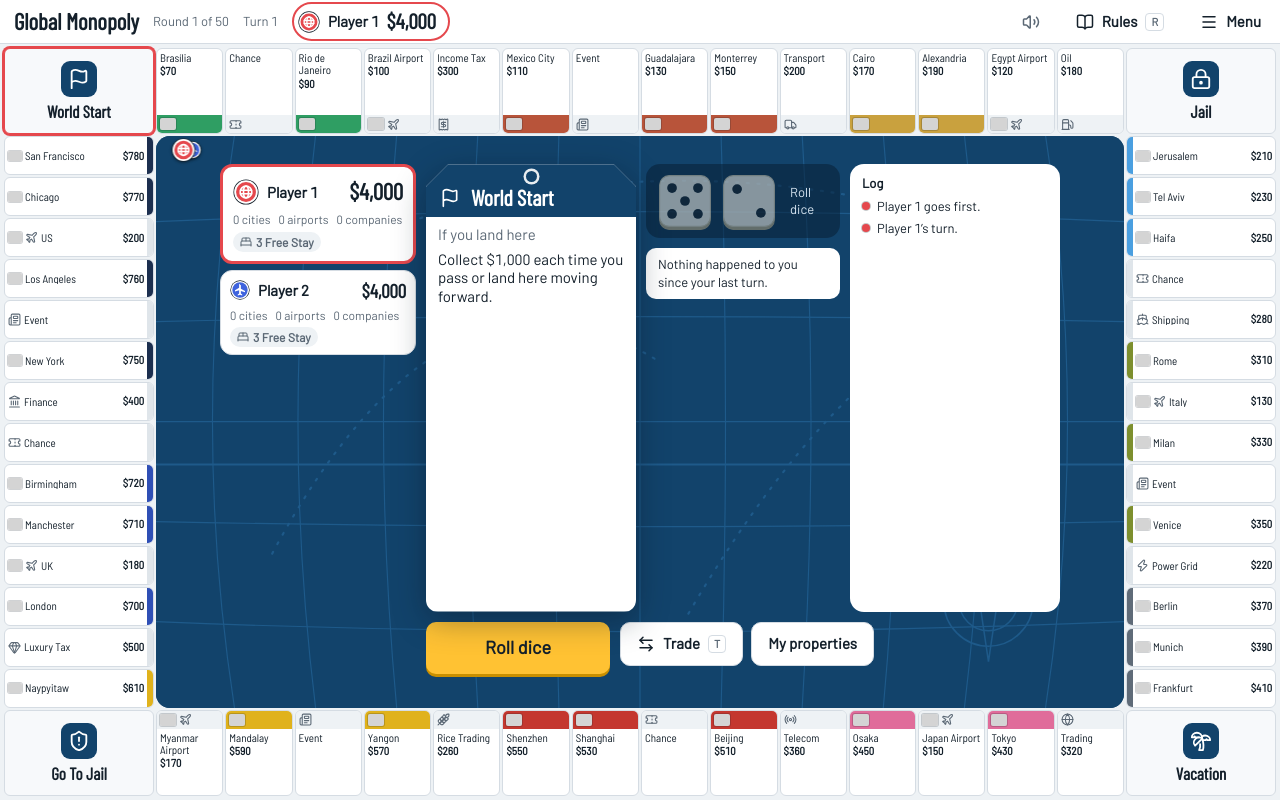
Scenario: rule guide › a switched-off topic says so in its first line, and tables come from the game data
Click the button "Rules R": (1120, 22) [1065,2,1175,42]
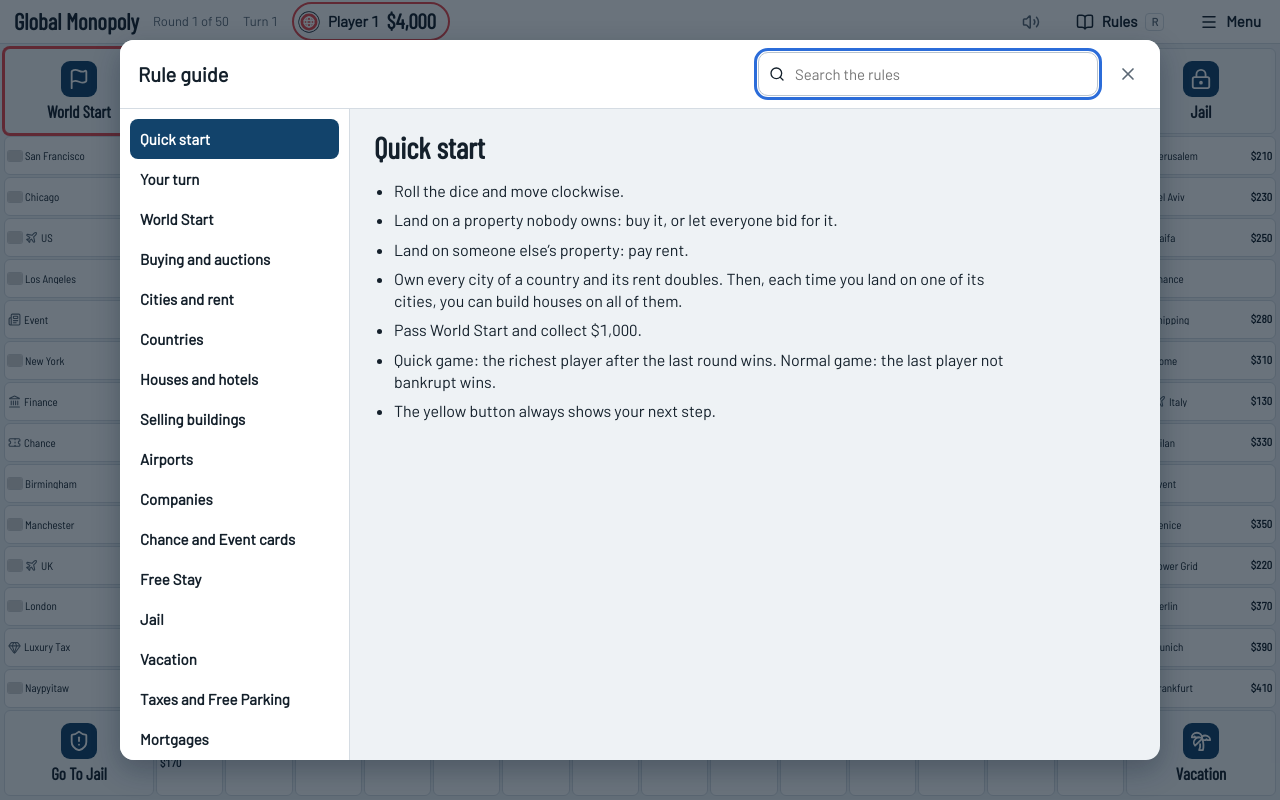
Click the button "Vacation": (234, 659) [130,639,339,679]
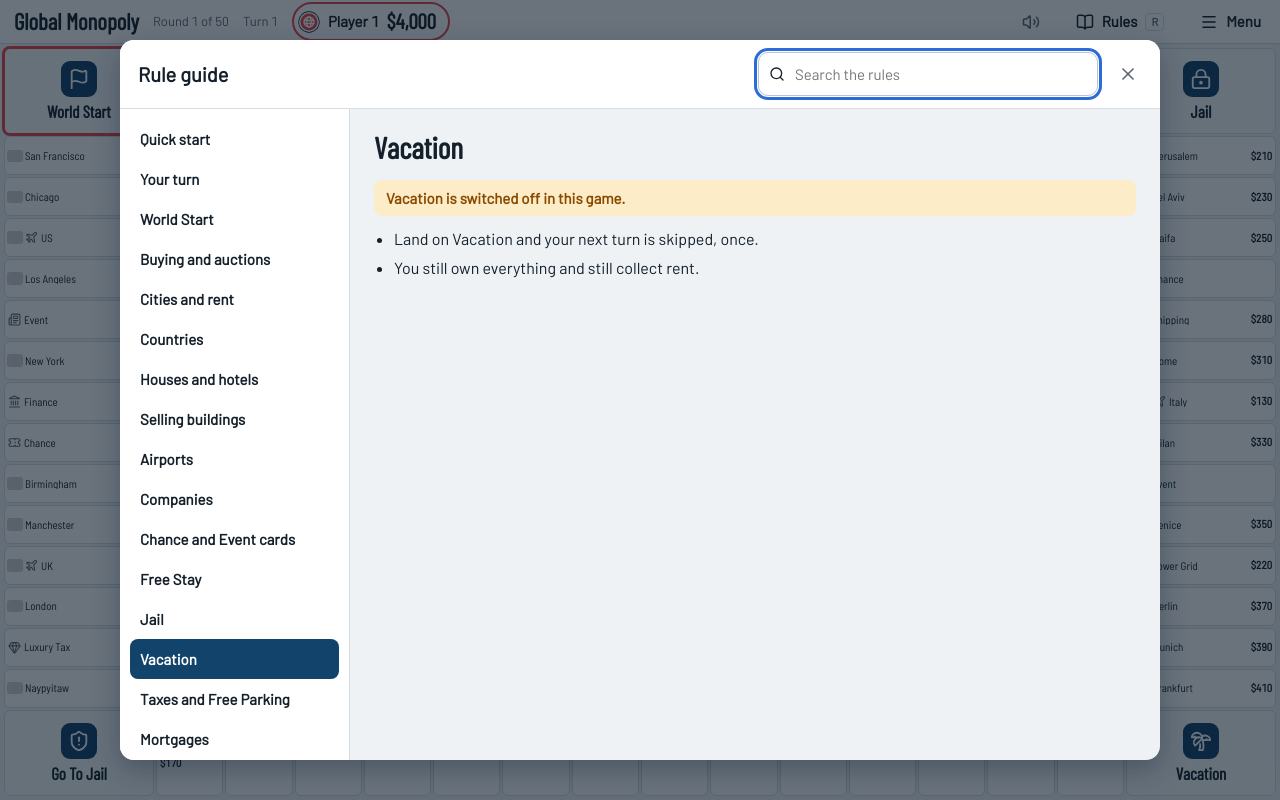
Check: the text "Vacation is switched off in this game." is shown, box [374,180,1136,216]
Click the button "Airports": (234, 459) [130,439,339,479]
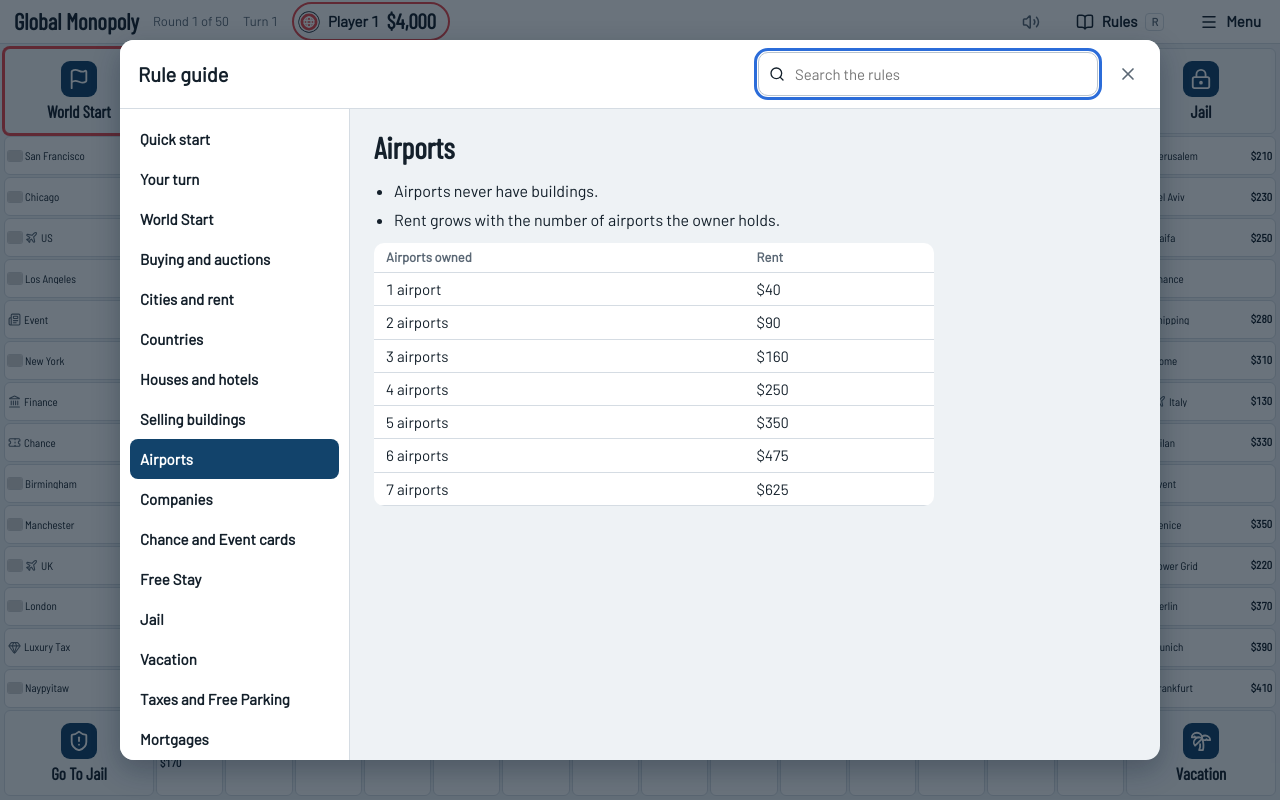
Click the button "Companies": (234, 499) [130,479,339,519]
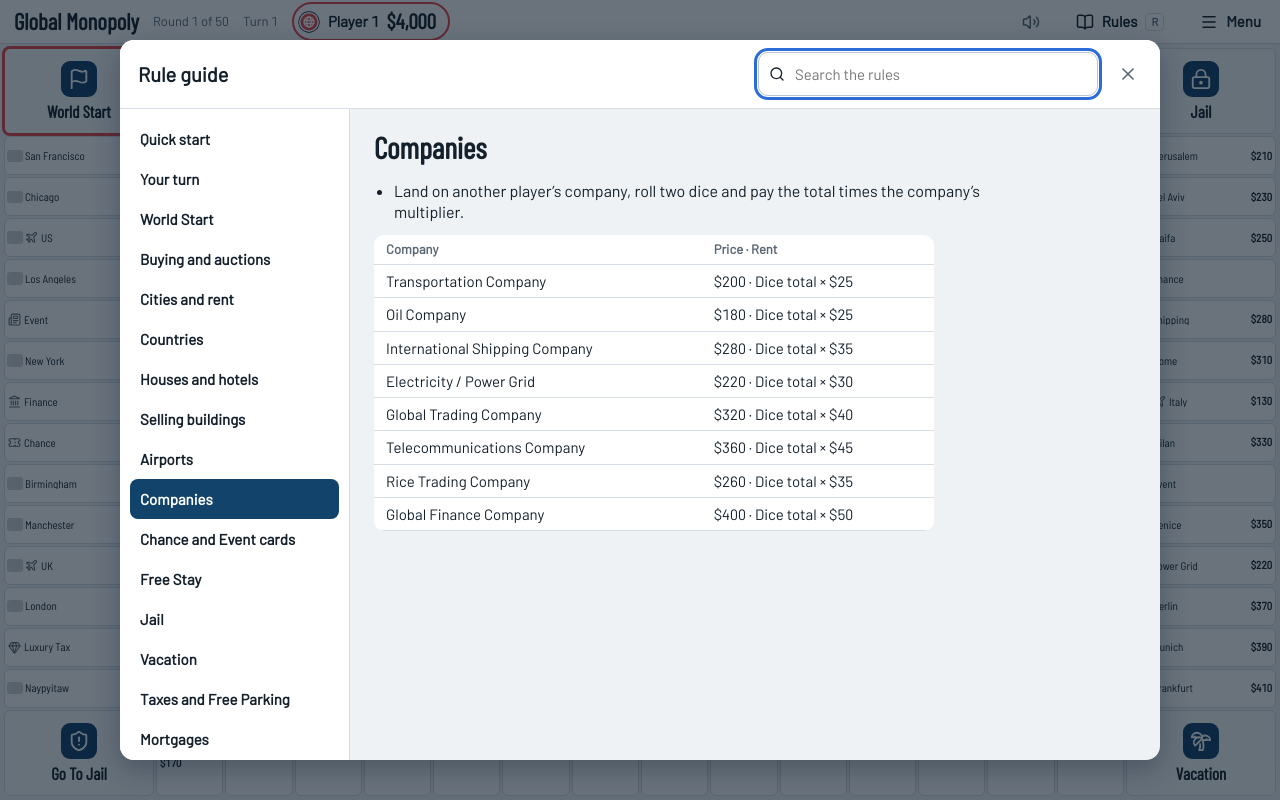
Check: the column heading "Global Finance Company" is shown, box [374,498,702,531]
